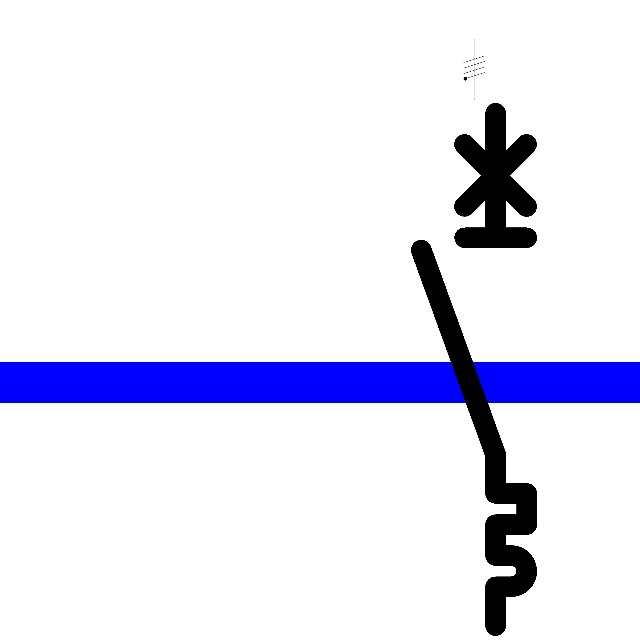interruptor_termomagnetico: (408, 100, 540, 639)
